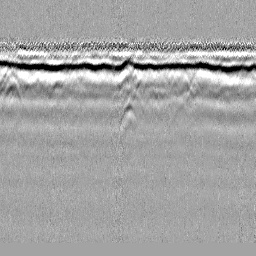cavity: (118, 95, 138, 132)
